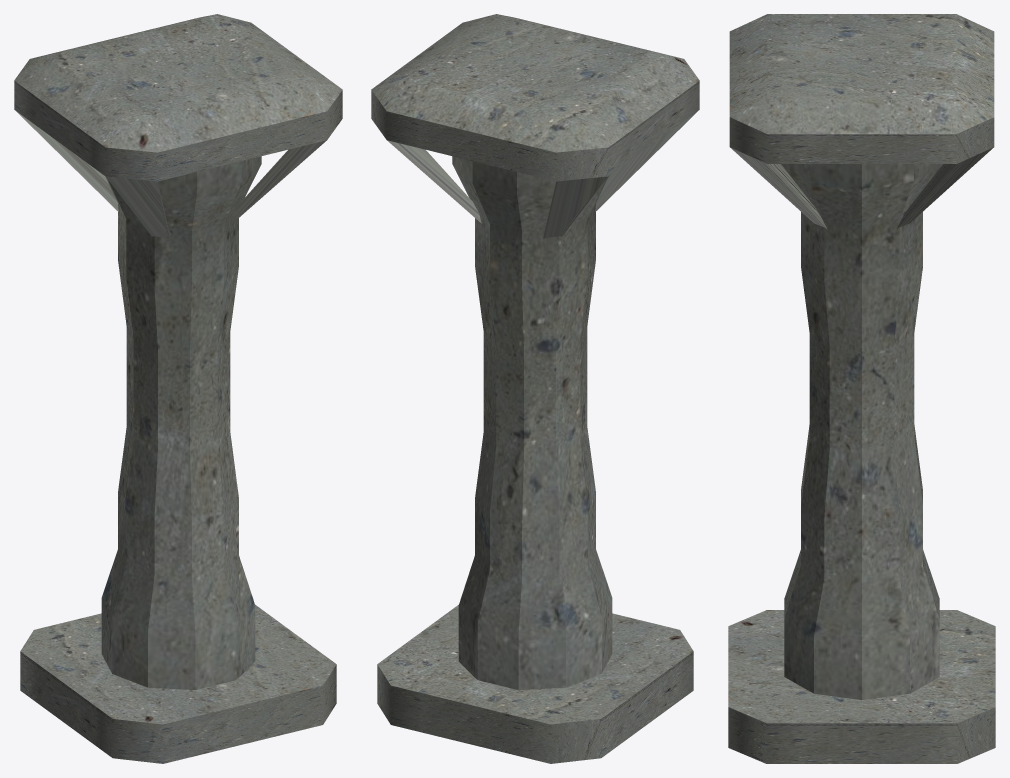
File: piller de merde plein.fbx
3 views of the same model, side by side, from view 1: azimuth 30°, elevation 25°; view 2: azimuth 150°, elevation 25°; view 3: azimuth 270°, elevation 25° (orthographic). The views are drawn at different scales.
Parts seen in each view (by area): view 1: pCube3; view 2: pCube3; view 3: pCube3.
Boxes of the visible parts, x1,y1,x2,y2 form: pCube3: (14,14,342,763); pCube3: (371,14,699,763); pCube3: (728,14,995,763).
Bounding box in the file's own units: 5.28 × 13.39 × 4.99.
1 material, 1 textured.
